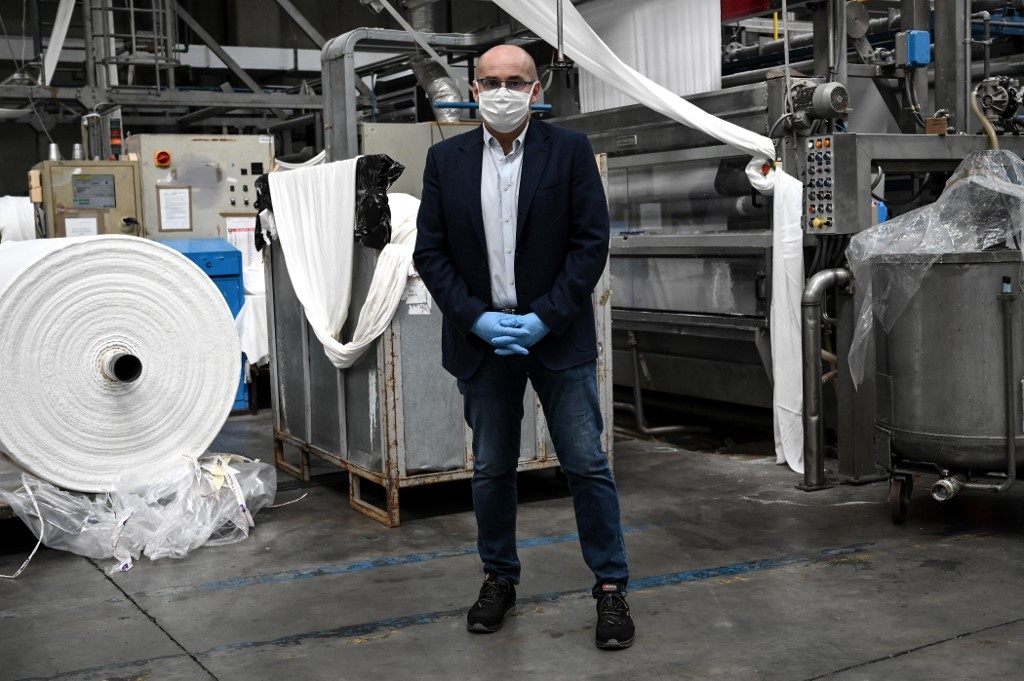with_mask: (471, 41, 546, 137)
